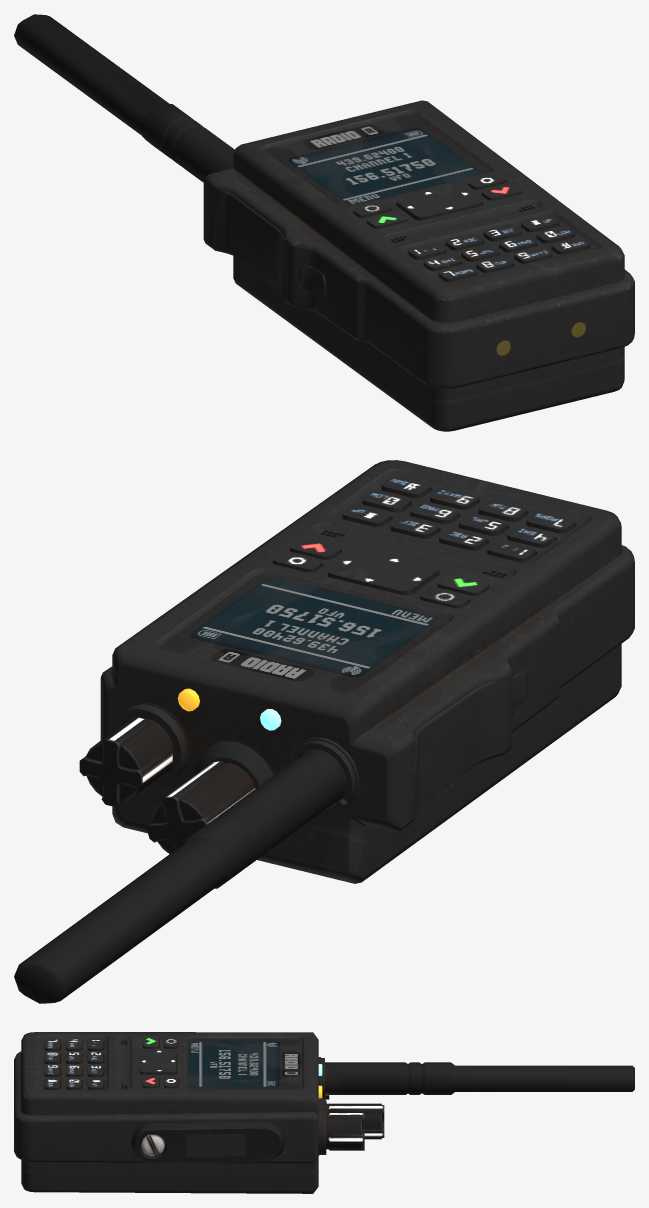
File: radio.glb
3 renders of one model, top to bottom at view 1: azimuth 30°, elevation 25°; view 2: azimuth 150°, elevation 25°; view 3: azimuth 270°, elevation 25°, orthographic. The views are drawn at different scales.
Parts seen in each view (by area): view 1: Frame_low1, Frame_low2, Antenna_low, RadioON_low, ButtonArrow_low, Programmkey_low; view 2: Frame_low1, Antenna_low, Frame_low2, RadioON_low, Volume_low, Mhz_low, ButtonArrow_low, FrameVolume_low, FrameMhz_low, FrameAntenna_low, ButtonGREEN_low, ButtonRED_low (+12 smaller); view 3: Frame_low1, Antenna_low, Frame_low2, FrameUSBFIX_low, Volume_low, Mhz_low, ButtonArrow_low, Fix_low, FrameVolume_low.
Part boxes in pixels (x1,y1,x2,y2): Frame_low1: (203, 100, 634, 431); Frame_low2: (264, 114, 490, 206); Antenna_low: (14, 14, 234, 182); RadioON_low: (212, 188, 284, 298); ButtonArrow_low: (396, 184, 481, 220); Programmkey_low: (298, 265, 326, 298); Frame_low1: (100, 460, 634, 883); Antenna_low: (14, 749, 346, 1003); Frame_low2: (159, 573, 449, 692); RadioON_low: (415, 679, 504, 817); Volume_low: (79, 717, 173, 806); Mhz_low: (146, 761, 255, 853); ButtonArrow_low: (327, 549, 437, 595); FrameVolume_low: (108, 702, 189, 787); FrameMhz_low: (194, 739, 274, 788); FrameAntenna_low: (287, 737, 359, 816); ButtonGREEN_low: (437, 574, 488, 595); ButtonRED_low: (290, 538, 340, 559); Frame_low1: (14, 1032, 318, 1193); Antenna_low: (325, 1062, 634, 1094); Frame_low2: (187, 1038, 301, 1089); FrameUSBFIX_low: (131, 1121, 284, 1163); Volume_low: (326, 1112, 364, 1150); Mhz_low: (326, 1103, 384, 1139); ButtonArrow_low: (140, 1050, 176, 1074); Fix_low: (140, 1134, 165, 1156); FrameVolume_low: (318, 1107, 326, 1155).
Bounding box in the file's own units: 0.0654 × 0.037 × 0.1995.
Materials: 2 (2 with a texture image).
